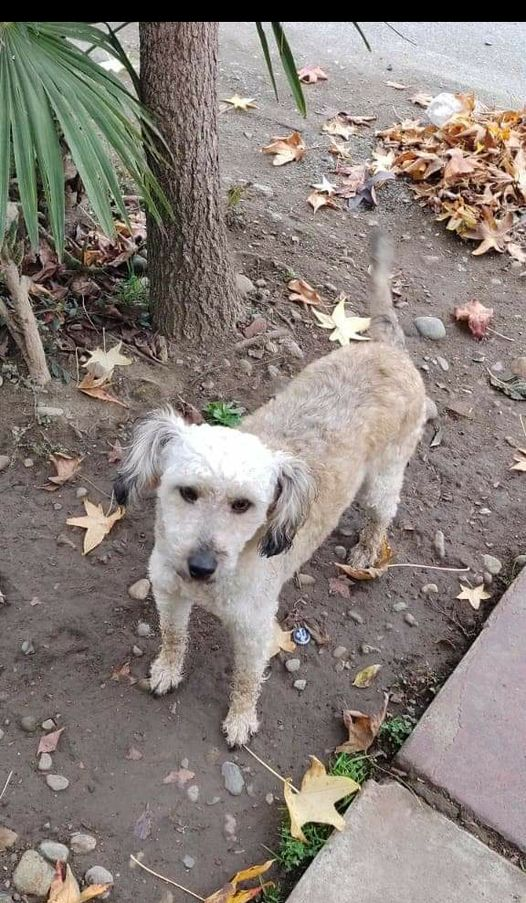dog: (105, 223, 447, 760)
